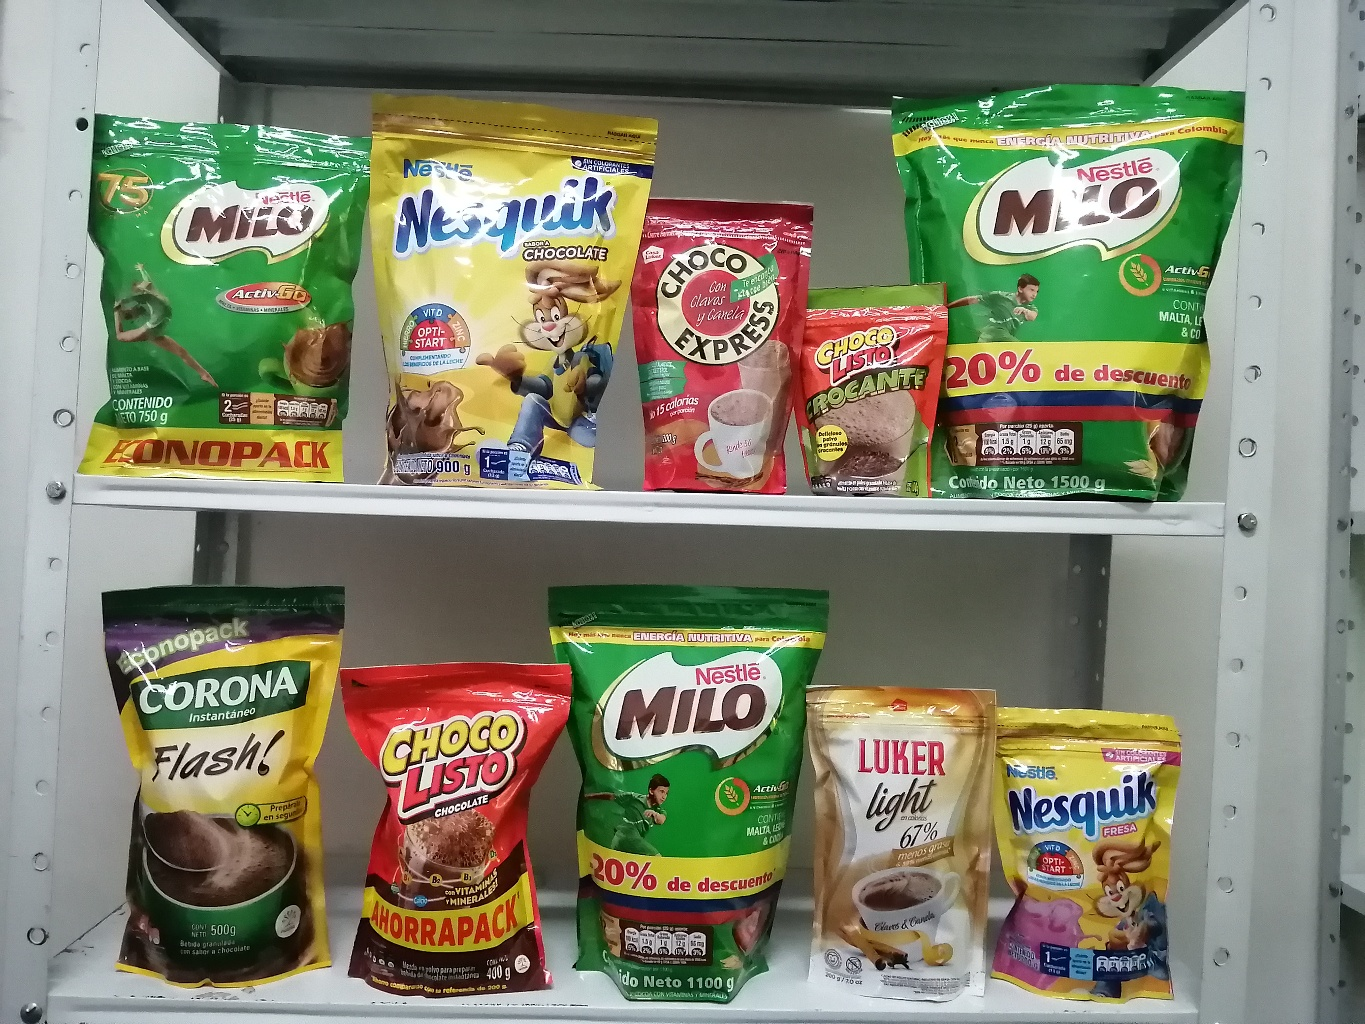COL0170102DYP10000: (797, 272, 954, 503)
COL0170103DYP40000: (342, 652, 558, 995)
COL0170305DYP20000: (998, 702, 1183, 1002)
